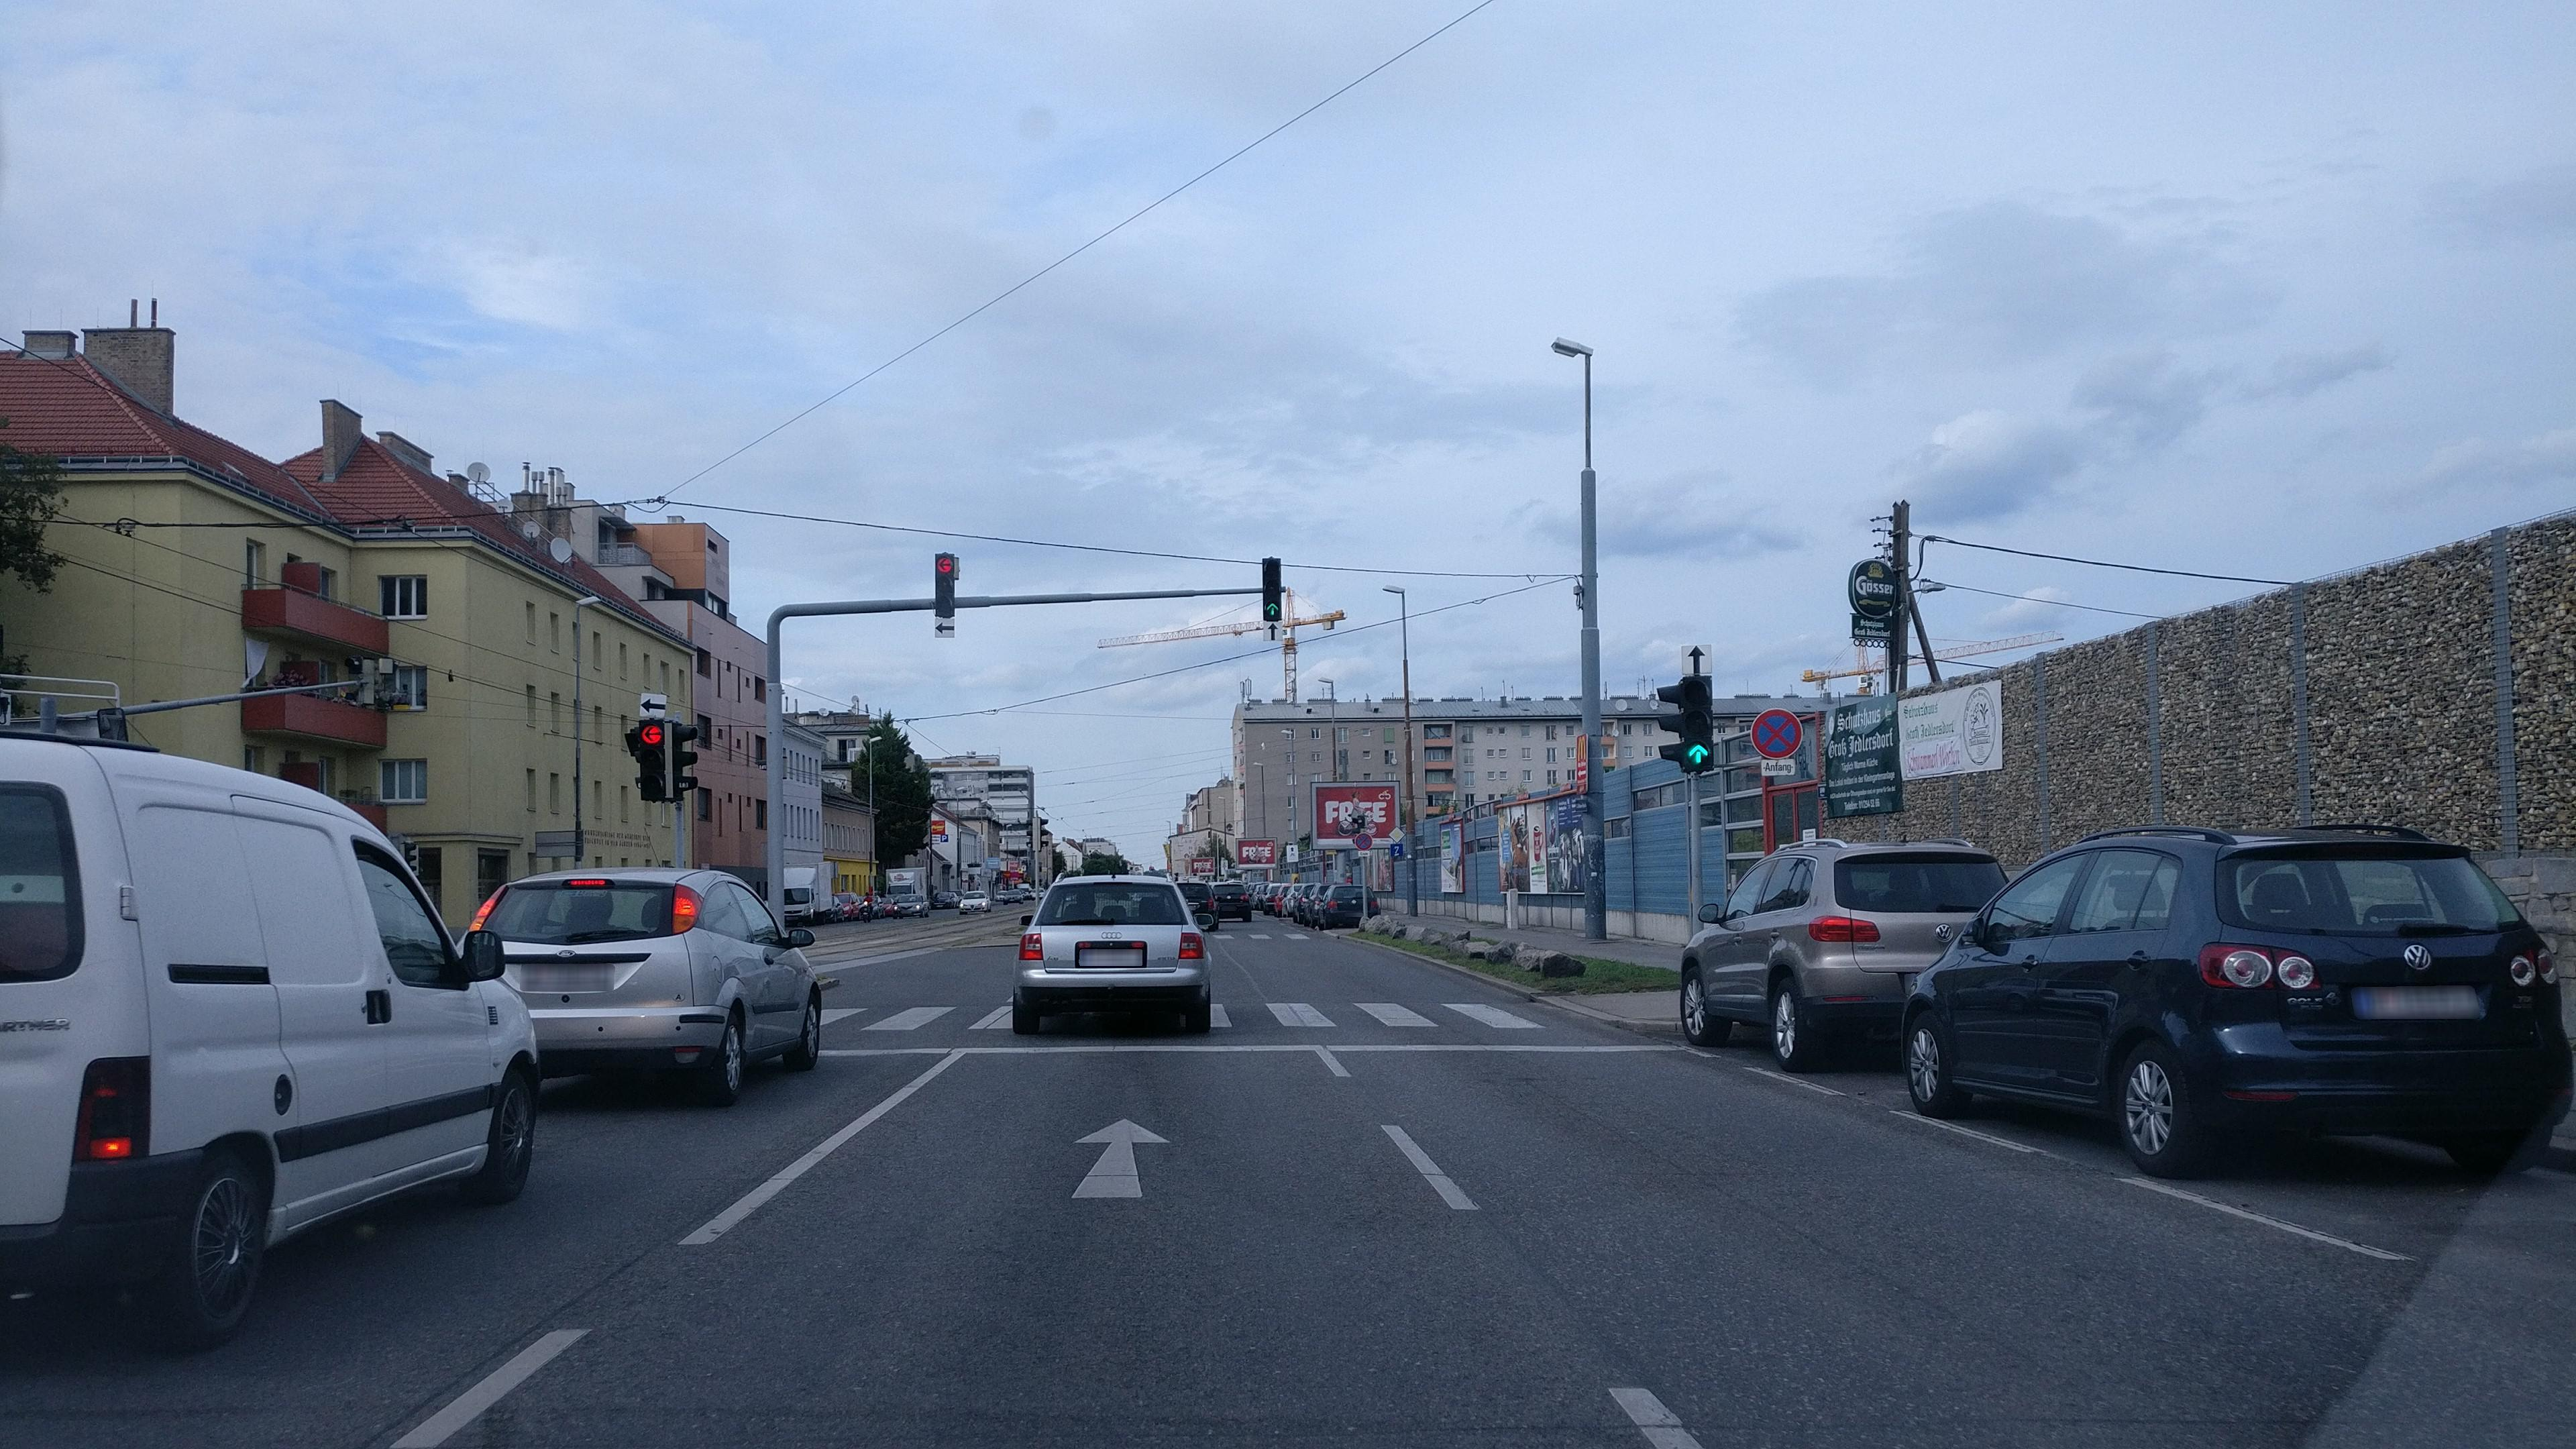vinyl banner: (1895, 676, 2010, 780), (1826, 692, 1913, 828)
